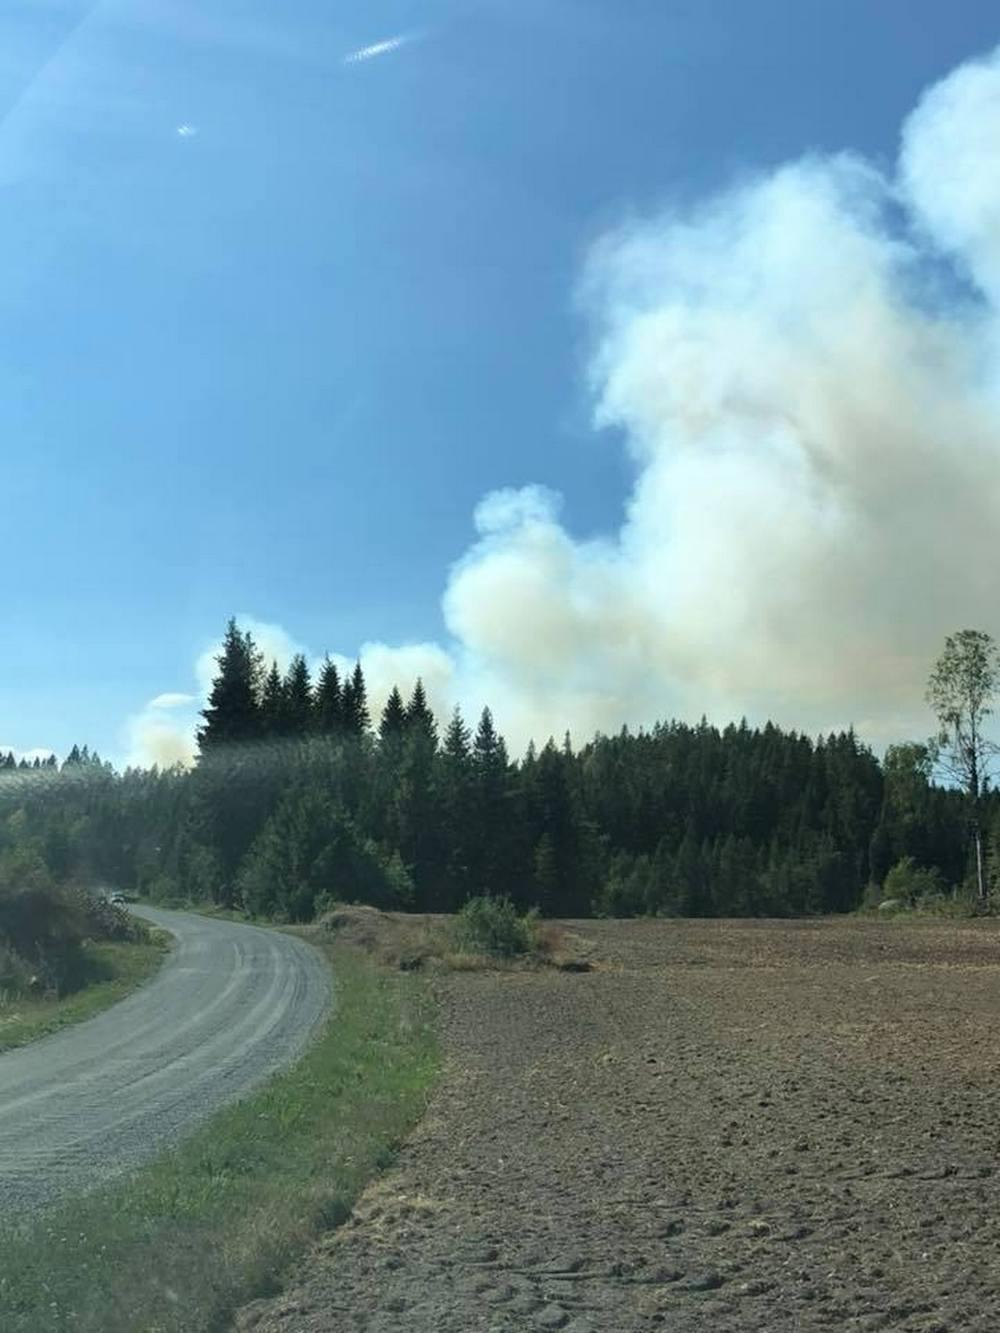smoke: (206, 47, 999, 765)
